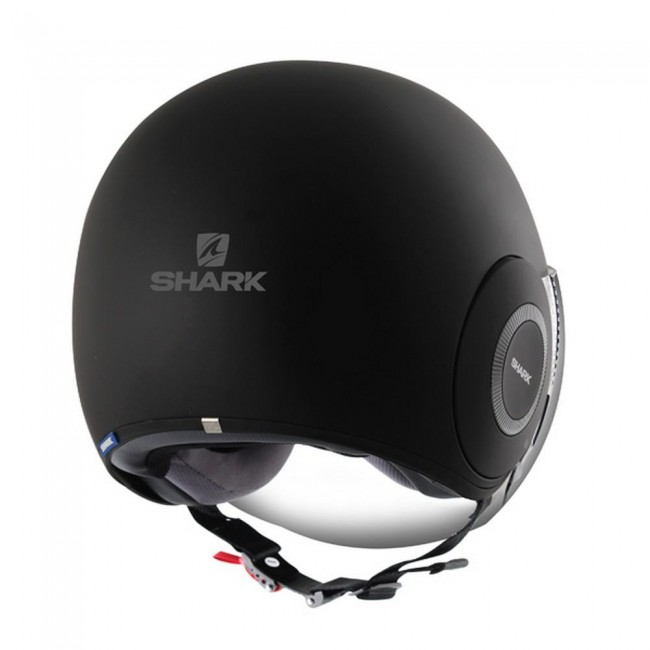with_helmet: (67, 57, 571, 538)
